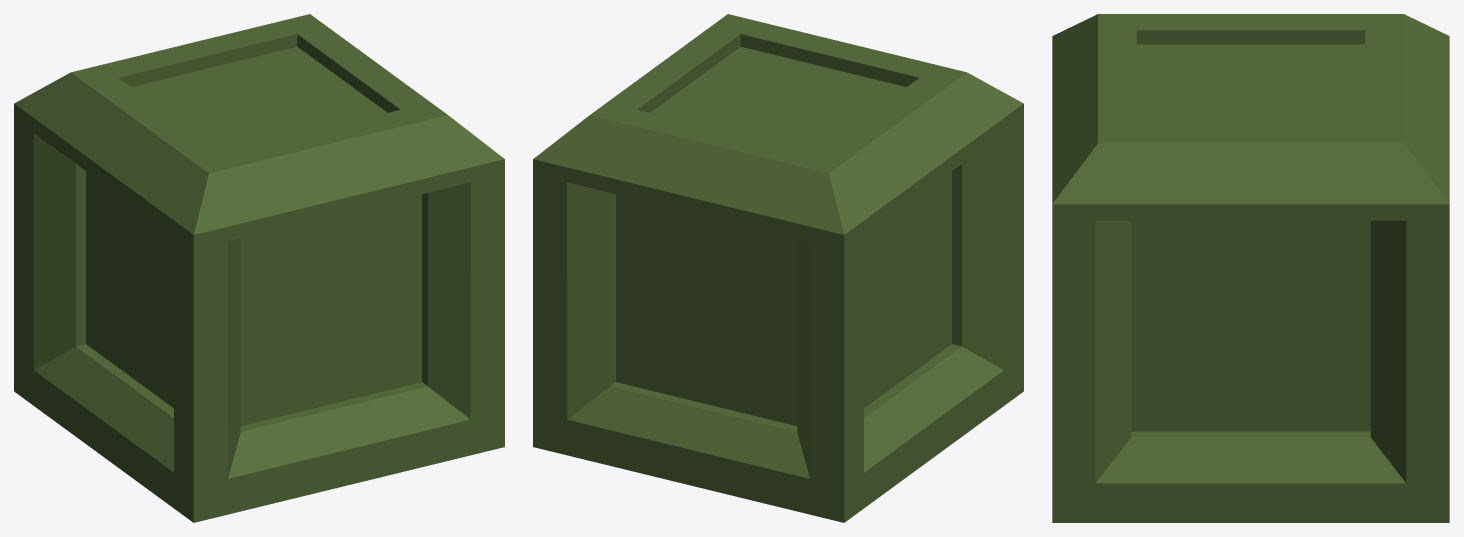
File: Crate.fbx
The picture shows the model from 3 angles, left to right: view 1: azimuth 30°, elevation 25°; view 2: azimuth 150°, elevation 25°; view 3: azimuth 270°, elevation 25°; orthographic projection. The views are drawn at different scales.
Visible parts, largest first — view 1: Cube; view 2: Cube; view 3: Cube.
Part boxes in pixels (<box>): Cube: <box>14,14,504,522</box>; Cube: <box>533,14,1023,522</box>; Cube: <box>1052,14,1449,522</box>.
Size of the model in its own units: 200 by 200 by 200.
